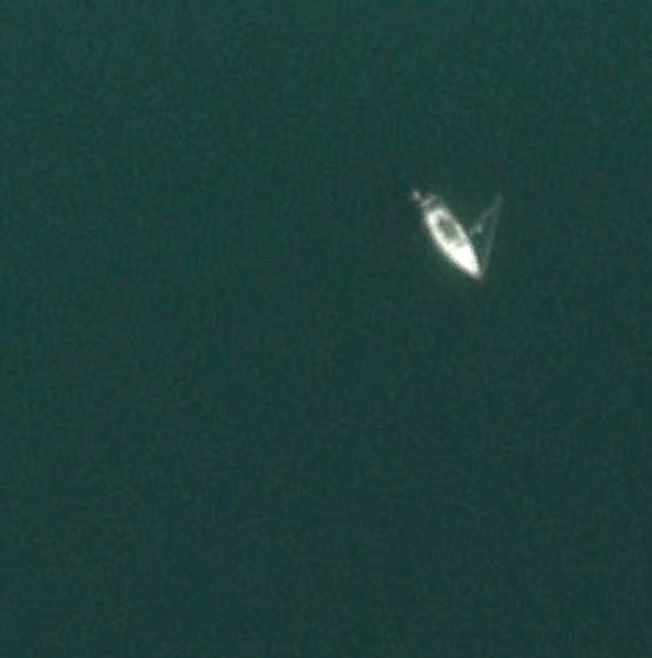boat: (416, 186, 487, 280)
